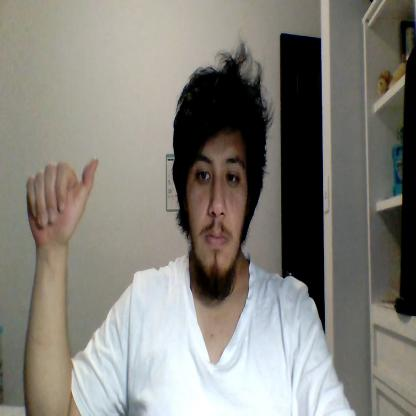A: (26, 157, 99, 242)
